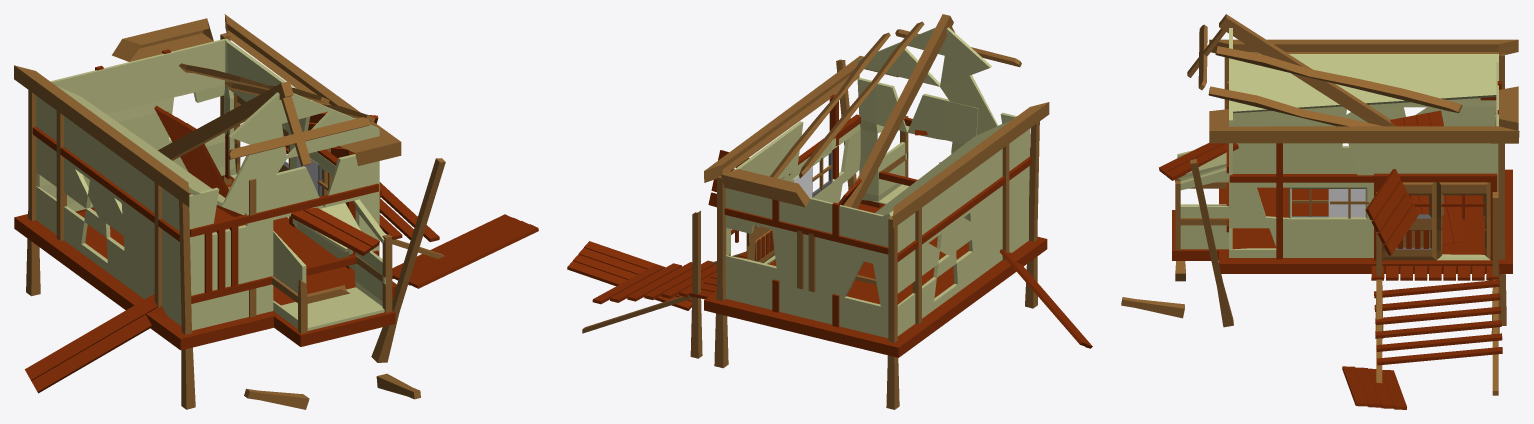
Rendered from DesHouse.fbx.
3 renders of one model, left to right at view 1: azimuth 30°, elevation 25°; view 2: azimuth 150°, elevation 25°; view 3: azimuth 270°, elevation 25°, orthographic. The views are drawn at different scales.
Parts seen in each view (by area): view 1: 立方體.018; view 2: 立方體.018; view 3: 立方體.018.
Boxes of the visible parts, <box> form: 立方體.018: <box>14,14,538,409</box>; 立方體.018: <box>567,14,1092,409</box>; 立方體.018: <box>1121,14,1519,409</box>.
Size of the model in its own units: 16363 by 11978 by 9085.
